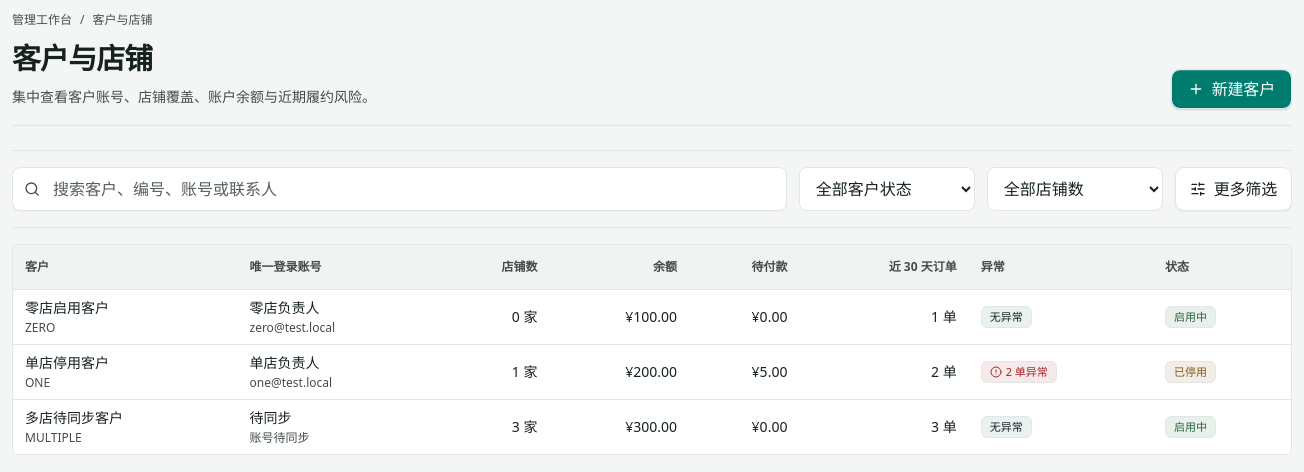
Scenario: CustomerListWorkspace filters › filters customer rows by customer status
The width and height of the screenshot is (1304, 472).
Select "已停用" in the dropdown named "客户状态筛选" at (887, 189), box [799,167,975,211]
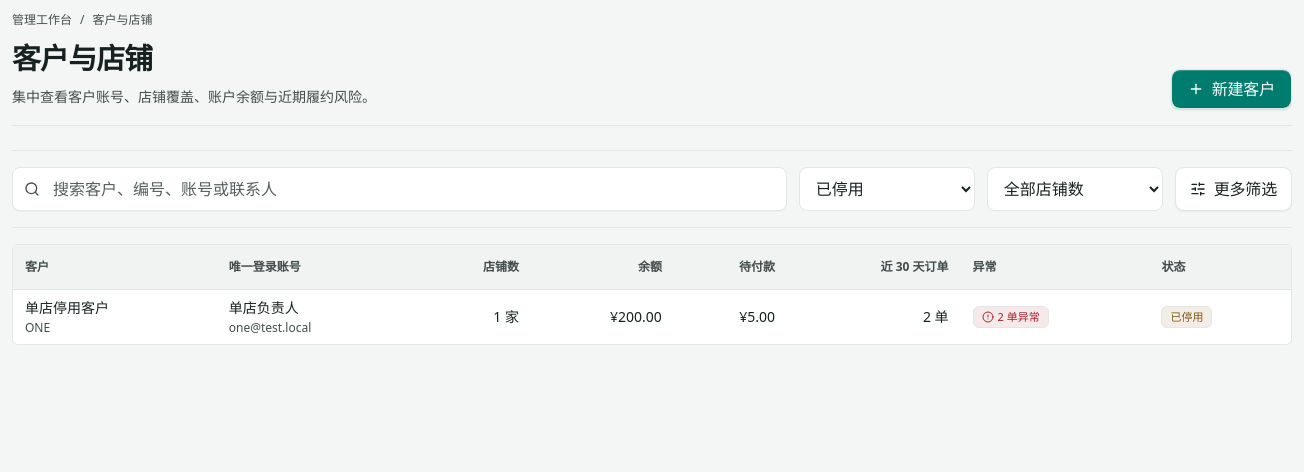
Expected: the row "单店停用客户" is shown, [13,289,1291,344]
Now the link "零店启用客户" is gone
Now the link "多店待同步客户" is gone
